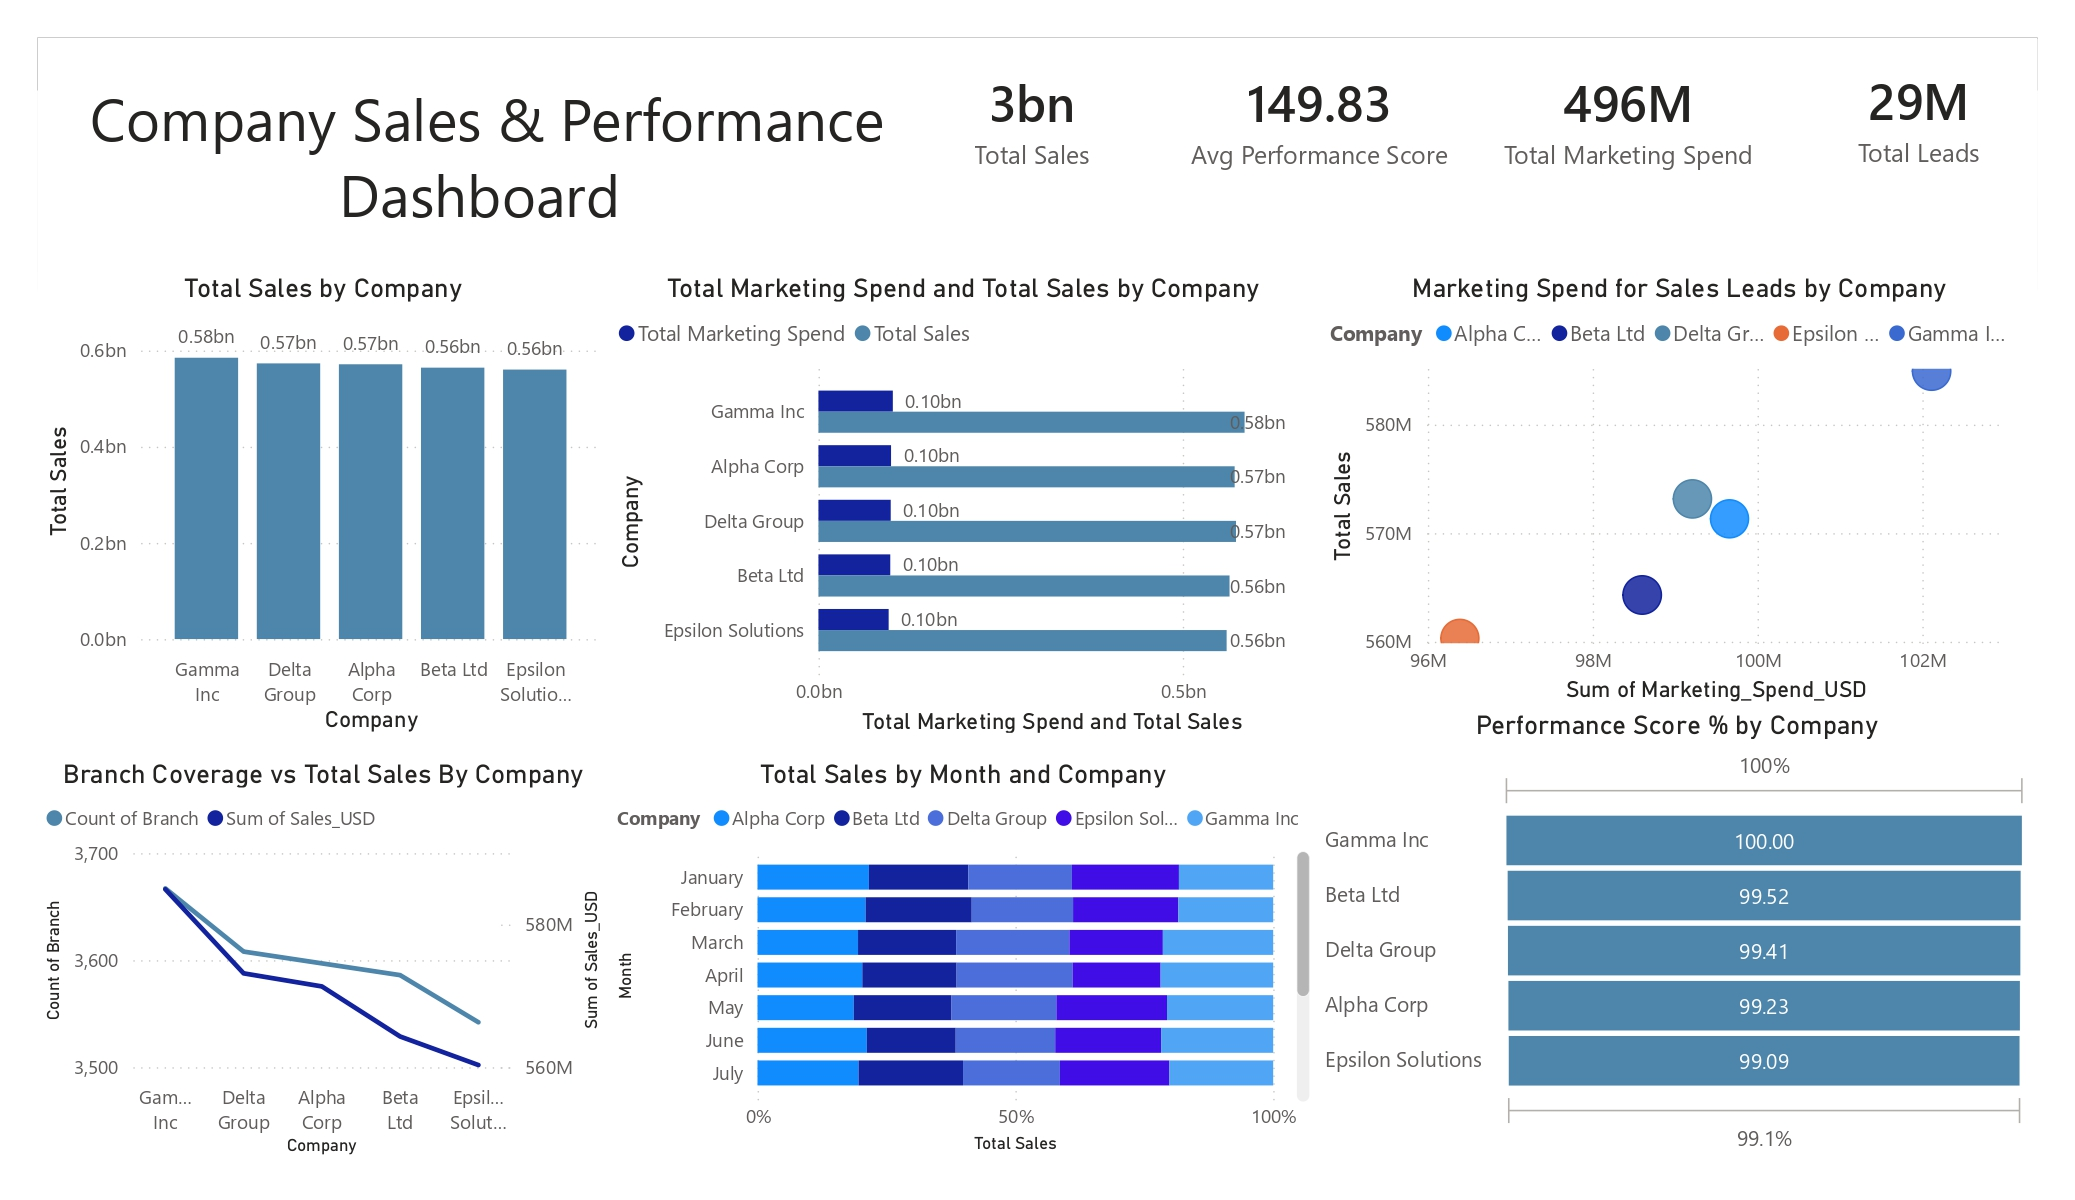

What the dashboard file says about the page in this screenshot:
{"tool":"powerbi","page":{"name":"Executive Overview","canvas":[1280,720],"ordinal":0},"visuals":[{"type":"cardVisual","fields":{"Data":["Company_Performance_Data.Total Sales"]},"box":[564,0,145.5,104.3],"z":0},{"type":"cardVisual","fields":{"Data":["Company_Performance_Data.Total Marketing Spend"]},"box":[908.4,1.4,220.9,102.9],"z":1000},{"type":"cardVisual","fields":{"Data":["Company_Performance_Data.Total Leads"]},"box":[1129.3,1.4,150.9,100.2],"z":2000},{"type":"cardVisual","fields":{"Data":["Company_Performance_Data.Avg Performance %"]},"box":[709.4,1.4,223.7,102.9],"z":3000},{"type":"columnChart","fields":{"Category":["Company_Performance_Data.Company"],"Y":["Company_Performance_Data.Total Sales"]},"box":[0,149.6,366.4,300.5],"z":4000},{"type":"clusteredBarChart","fields":{"Category":["Company_Performance_Data.Company"],"Y":["Company_Performance_Data.Total Marketing Spend","Company_Performance_Data.Total Sales"]},"box":[366.4,149.6,452.8,300.5],"z":5000},{"type":"funnel","fields":{"Category":["Company_Performance_Data.Company","Company_Performance_Data.Branch"],"Y":["Company_Performance_Data.Performance Score %"]},"box":[819.2,429.5,461.1,290.9],"z":6000},{"type":"lineChart","title":"Branch Coverage vs Total Sales By Company","fields":{"Category":["Company_Performance_Data.Company"],"Y":["CountNonNull(Company_Performance_Data.Branch)"],"Y2":["Sum(Company_Performance_Data.Sales_USD)"]},"box":[0,461,366,259],"z":7000},{"type":"hundredPercentStackedBarChart","fields":{"Category":["Company_Performance_Data.Date.Variation.Date Hierarchy.Month"],"Y":["Company_Performance_Data.Total Sales"],"Series":["Company_Performance_Data.Company"]},"box":[366.4,461.1,452.8,259.3],"z":8000},{"type":"textbox","box":[12.3,20.6,551.6,113.9],"z":9000},{"type":"scatterChart","title":"Marketing Spend for Sales Leads by Company","fields":{"X":["Sum(Company_Performance_Data.Marketing_Spend_USD)"],"Y":["Company_Performance_Data.Total Sales"],"Size":["Company_Performance_Data.Total Leads"],"Series":["Company_Performance_Data.Company"]},"box":[822,149.6,458.3,279.9],"z":10000}]}

Visuals, with their boxes on the page's 1280x720 design canvas (x1, y1, x2, y2). These are canvas units, not pixel positions in the 2075x1200 screenshot, which may show the page scaled, cropped or inside an application window:
cardVisual - Company_Performance_Data.Total Sales: box(564, 0, 710, 104)
cardVisual - Company_Performance_Data.Total Marketing Spend: box(908, 1, 1129, 104)
cardVisual - Company_Performance_Data.Total Leads: box(1129, 1, 1280, 102)
cardVisual - Company_Performance_Data.Avg Performance %: box(709, 1, 933, 104)
columnChart - Company_Performance_Data.Company x Company_Performance_Data.Total Sales: box(0, 150, 366, 450)
clusteredBarChart - Company_Performance_Data.Company x Company_Performance_Data.Total Marketing Spend: box(366, 150, 819, 450)
funnel - Company_Performance_Data.Company x Company_Performance_Data.Branch: box(819, 430, 1280, 720)
"Branch Coverage vs Total Sales By Company" lineChart: box(0, 461, 366, 720)
hundredPercentStackedBarChart - Company_Performance_Data.Date.Variation.Date Hierarchy.Month x Company_Performance_Data.Total Sales: box(366, 461, 819, 720)
textbox: box(12, 21, 564, 134)
"Marketing Spend for Sales Leads by Company" scatterChart: box(822, 150, 1280, 430)
